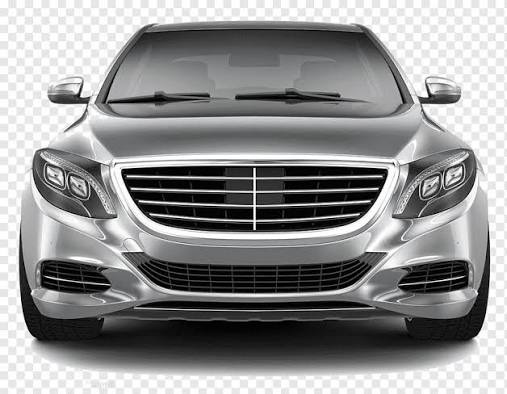car: (26, 14, 487, 334)
